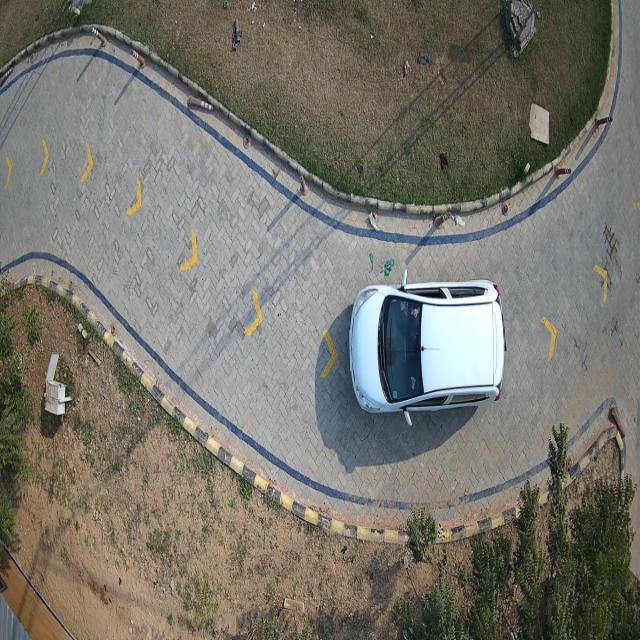car: (349, 281, 506, 414)
